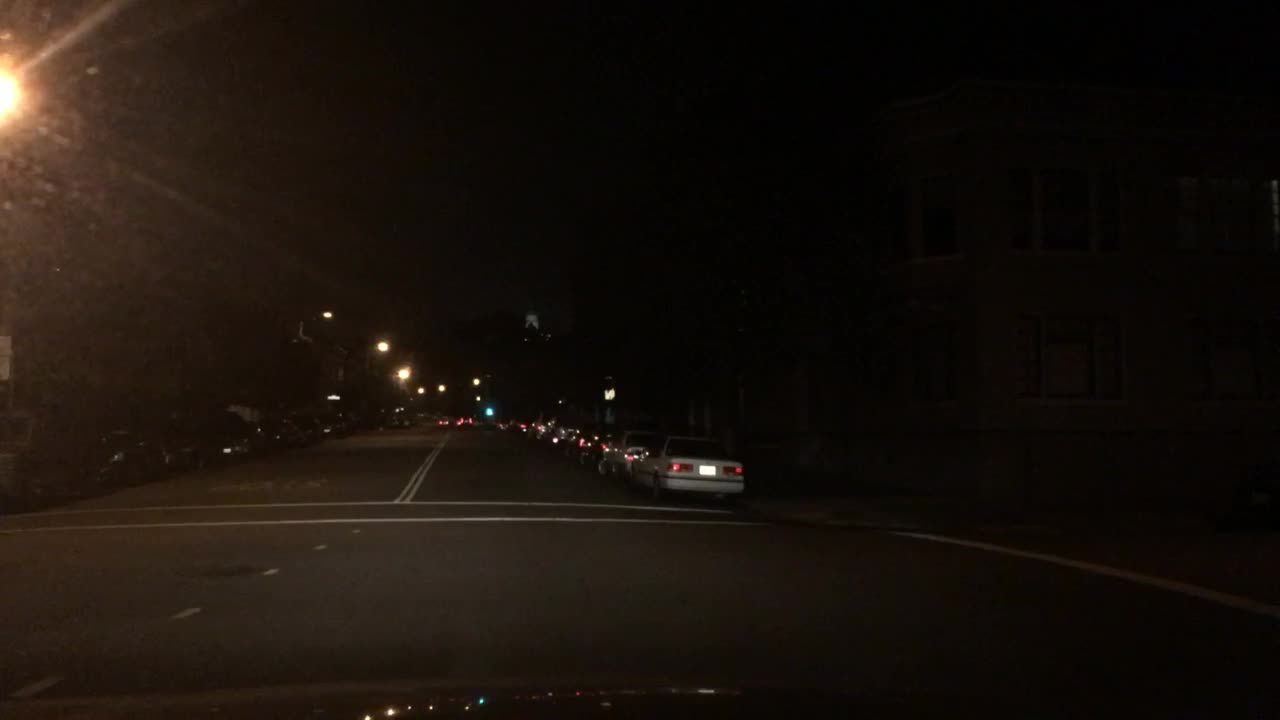car: (630, 428, 745, 508), (91, 431, 168, 483), (599, 424, 646, 481), (188, 426, 240, 462), (149, 430, 193, 470), (565, 422, 603, 467), (543, 412, 577, 450), (220, 420, 262, 450), (254, 423, 294, 444), (531, 409, 553, 439), (508, 413, 533, 436), (293, 420, 320, 440), (313, 418, 337, 438), (329, 415, 356, 430), (382, 412, 409, 426), (360, 413, 383, 427), (455, 412, 475, 428), (434, 415, 450, 428), (496, 418, 510, 431)
traffic light: (484, 406, 495, 415)
